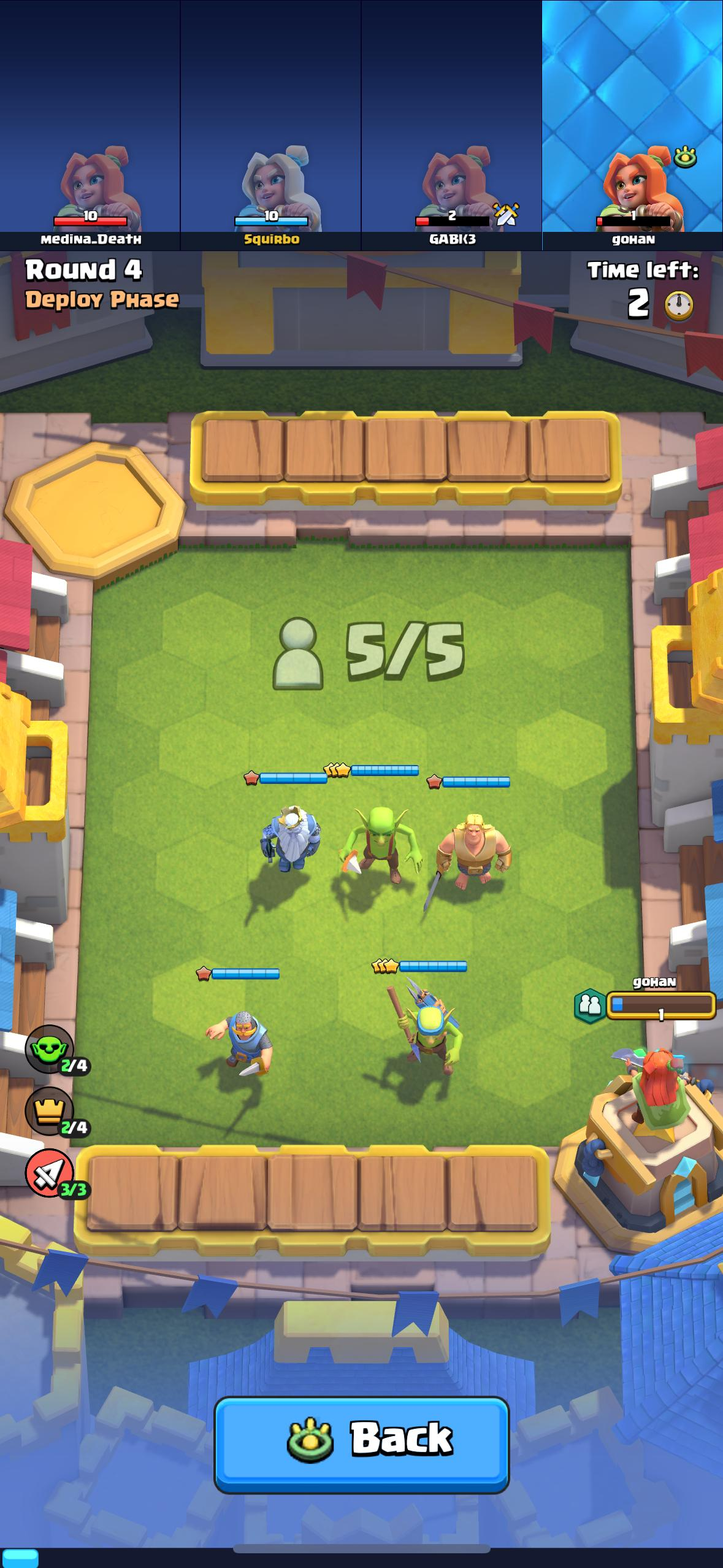ghost: (256, 801, 324, 880)
goblin: (335, 797, 426, 889)
golden: (433, 810, 513, 891)
knight: (200, 1000, 275, 1082)
spear: (383, 972, 466, 1082)
